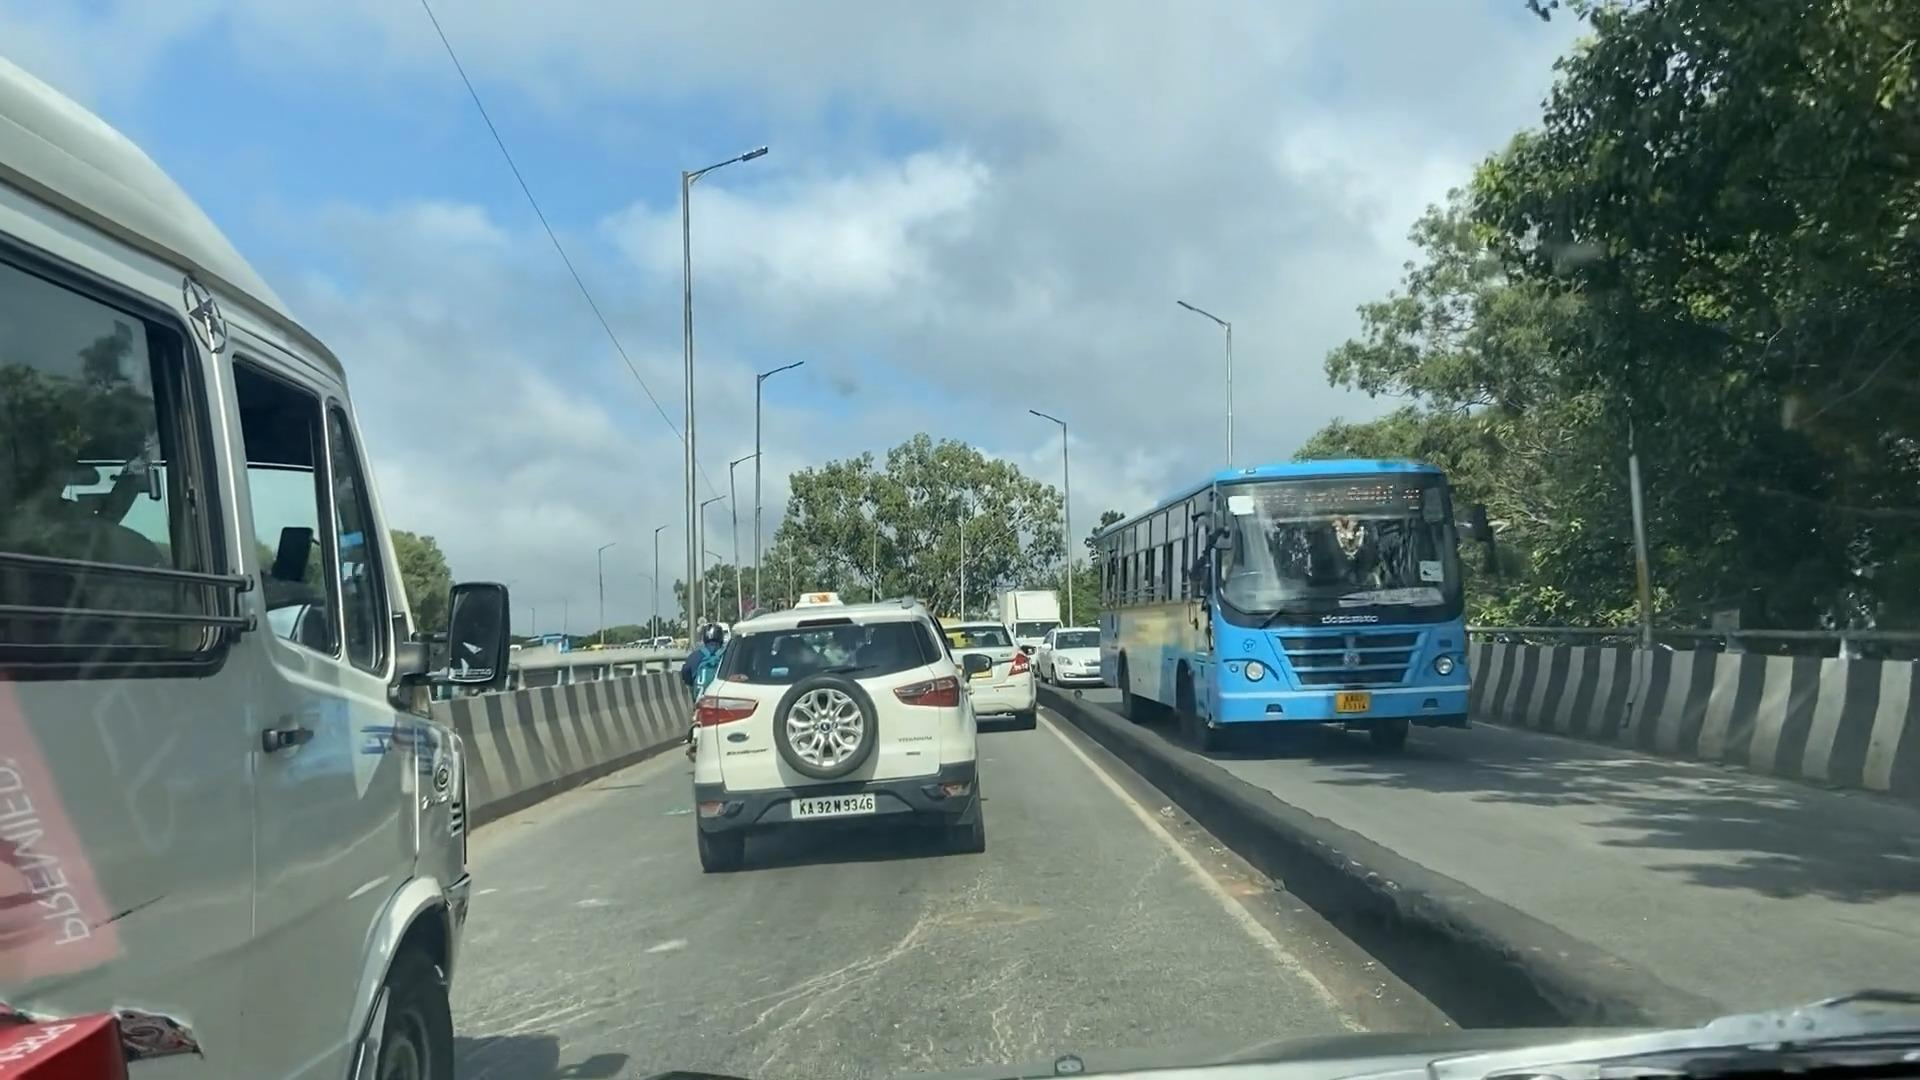LMV: (688, 597, 976, 869)
UnsurfacedRoad: (794, 873, 1021, 1017)
